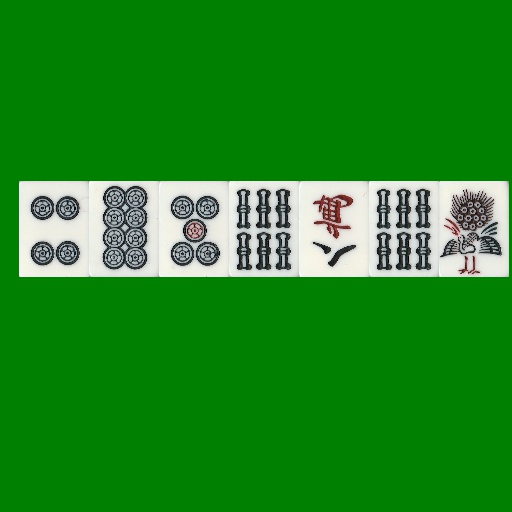1s: (439, 181, 509, 277)
4p: (19, 181, 89, 277)
5p: (159, 181, 229, 277)
6s: (229, 181, 299, 277), (369, 181, 439, 277)
8m: (299, 181, 369, 277)
8p: (89, 181, 159, 277)
